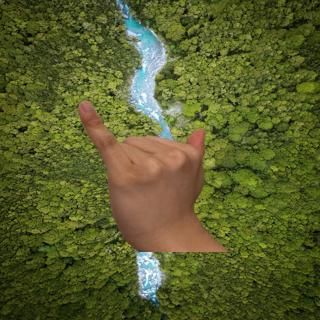HAVE: (68, 96, 219, 252)
